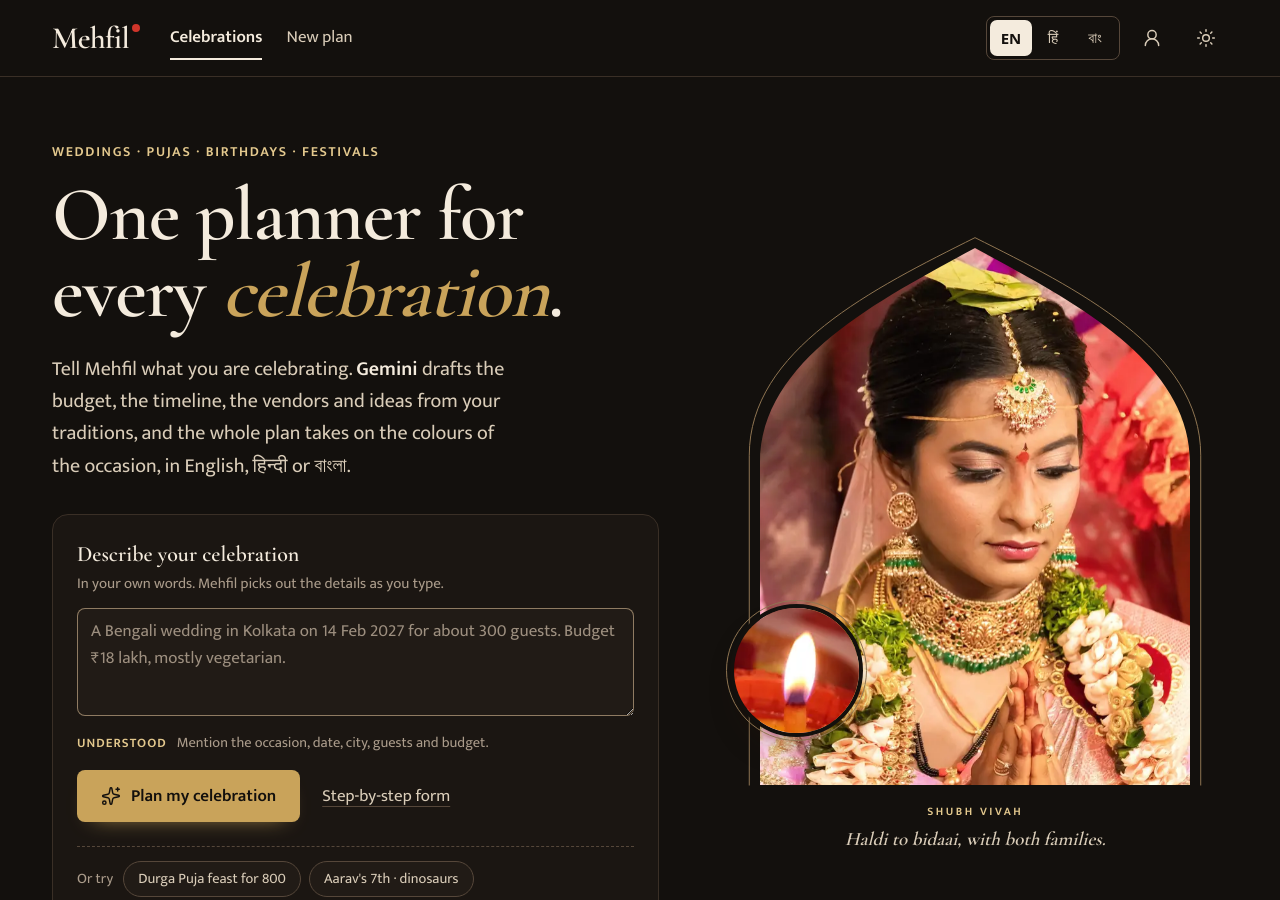
Test: App › switches the interface to Hindi and Bengali
Step 1. Click the button named "हिन्दी" → (1053, 38), box [1032,20,1074,56]
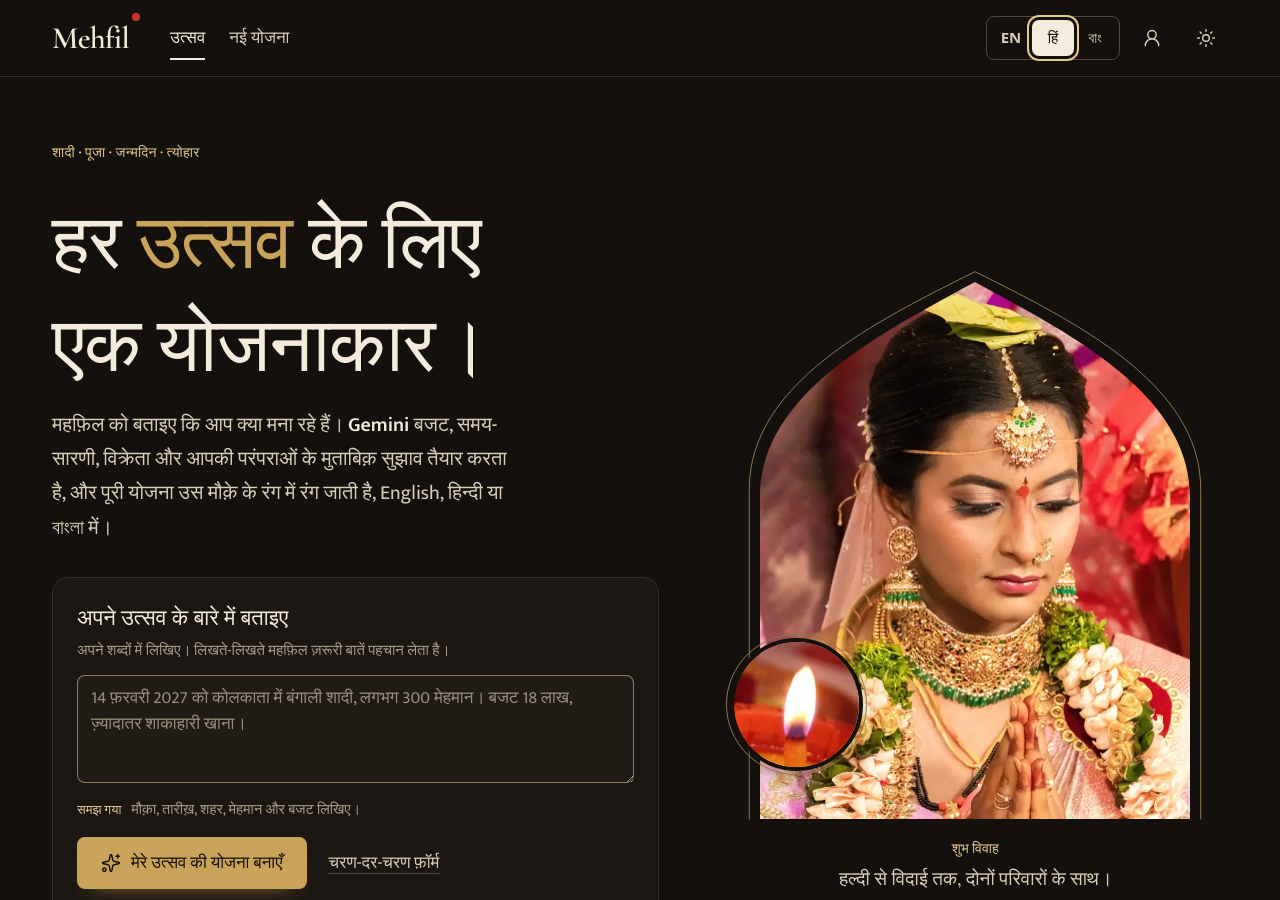
Check: the heading shows "हर उत्सव के लिए", box [52,197,486,393]
Step 2. Click the button named "বাংলা" → (1095, 38), box [1074,20,1116,56]
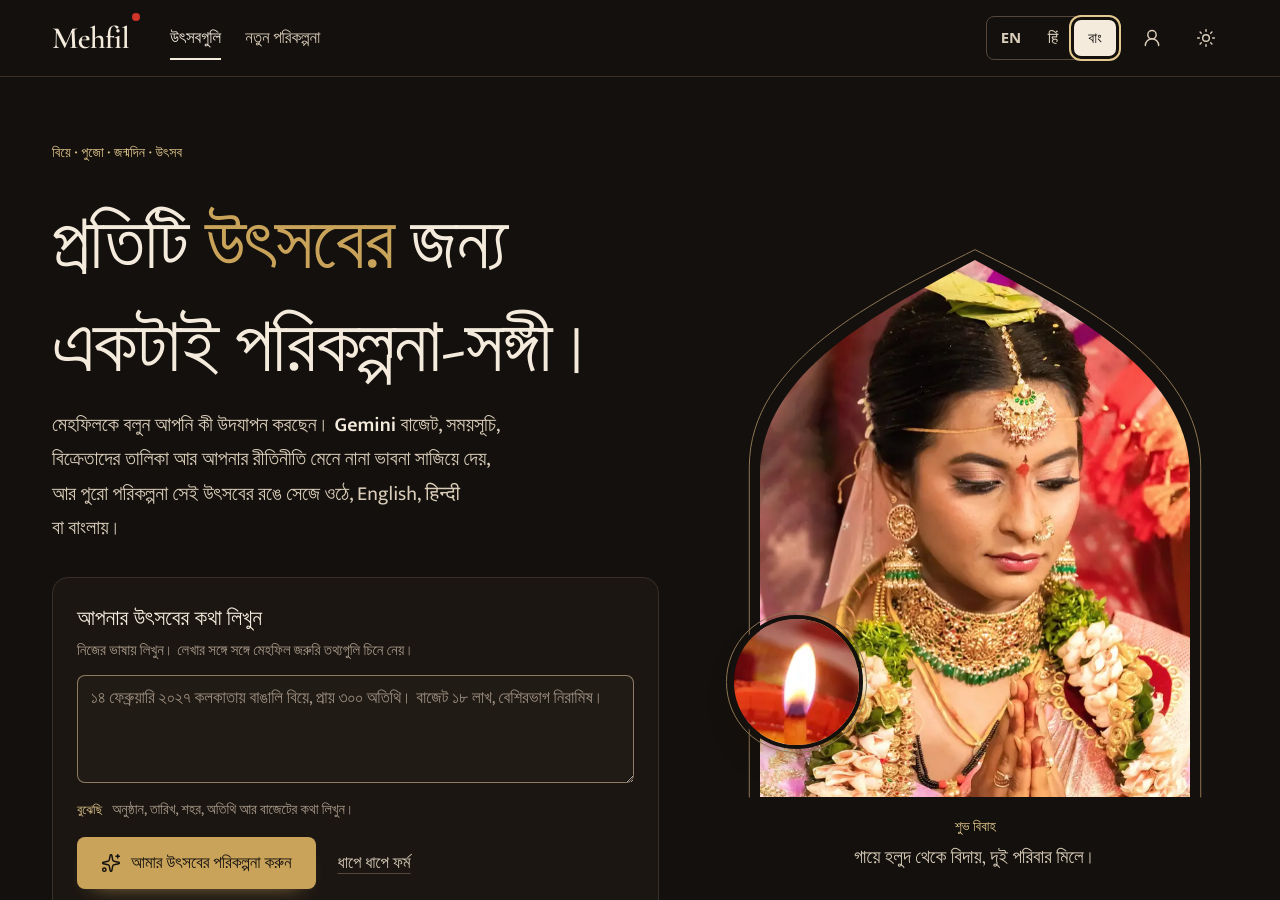
Check: the heading shows "প্রতিটি উৎসবের জন্য", box [52,179,658,386]
